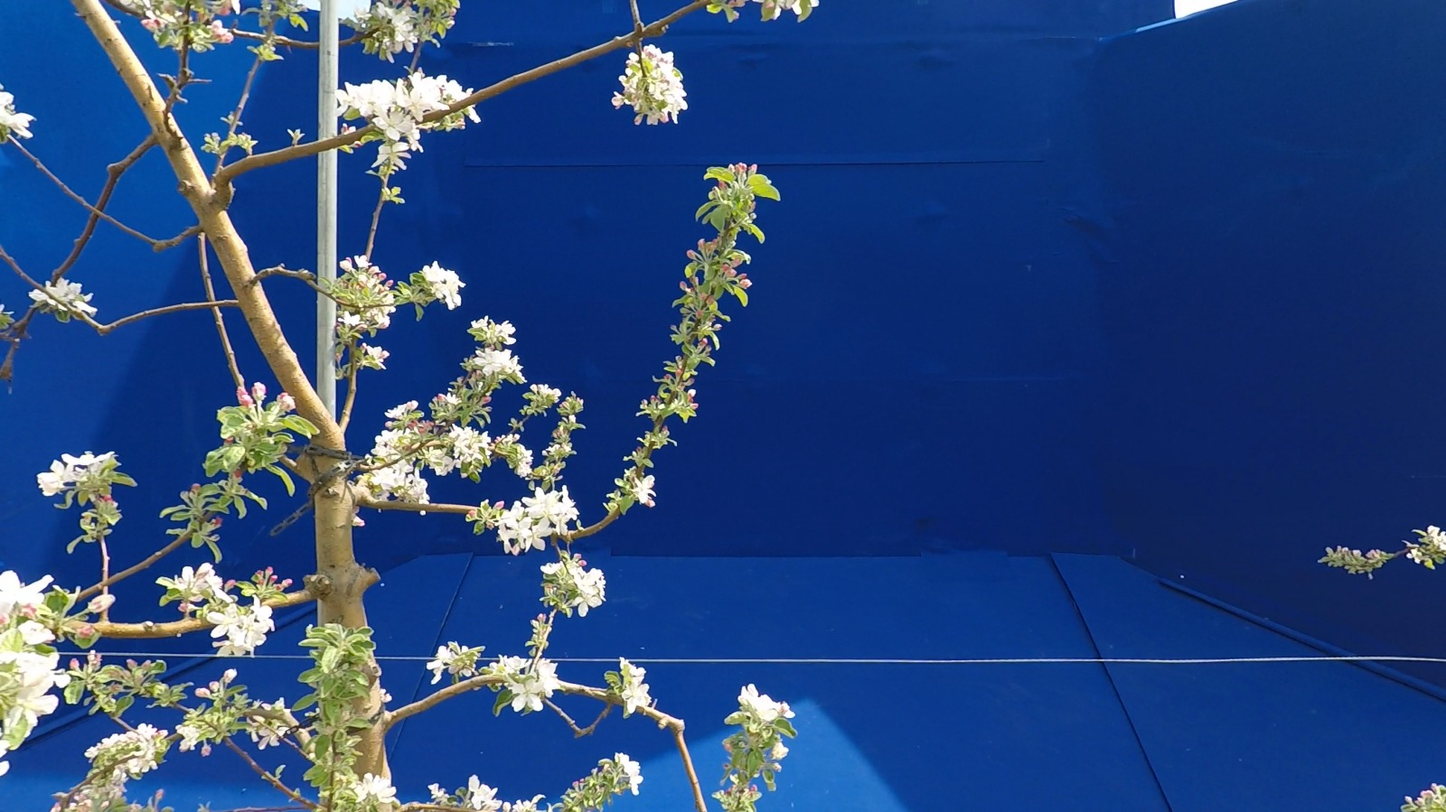flower: (335, 70, 474, 171), (175, 564, 275, 658), (492, 484, 579, 555), (0, 651, 71, 738), (85, 723, 159, 799), (484, 656, 578, 714), (634, 45, 688, 126), (422, 425, 506, 476), (38, 452, 115, 496), (564, 552, 606, 617), (371, 460, 430, 505), (620, 658, 664, 717), (377, 3, 419, 63), (419, 262, 465, 311), (738, 685, 795, 722), (0, 571, 54, 610), (45, 277, 98, 315), (349, 771, 401, 806), (474, 348, 527, 382), (612, 53, 643, 108), (427, 642, 465, 686), (0, 92, 34, 139), (371, 429, 414, 463), (18, 609, 55, 647), (341, 256, 381, 288), (0, 706, 24, 758), (615, 753, 643, 796), (469, 776, 502, 812), (29, 289, 68, 311), (631, 476, 656, 507), (176, 725, 204, 751), (363, 343, 390, 369), (515, 443, 533, 478), (541, 562, 568, 585), (206, 21, 234, 43), (386, 401, 418, 420), (371, 306, 394, 332), (468, 316, 493, 339), (774, 0, 802, 20), (495, 321, 517, 345), (208, 0, 240, 16), (258, 727, 279, 750), (1428, 526, 1446, 551), (338, 312, 365, 327), (539, 385, 561, 403), (1407, 548, 1431, 564), (353, 8, 372, 28), (435, 393, 462, 406), (278, 393, 296, 412), (772, 742, 789, 761), (219, 670, 237, 687), (468, 105, 482, 124), (428, 784, 445, 798), (276, 723, 289, 737), (0, 761, 9, 776), (809, 0, 819, 7), (252, 733, 259, 742), (405, 495, 411, 503), (202, 725, 209, 730)
